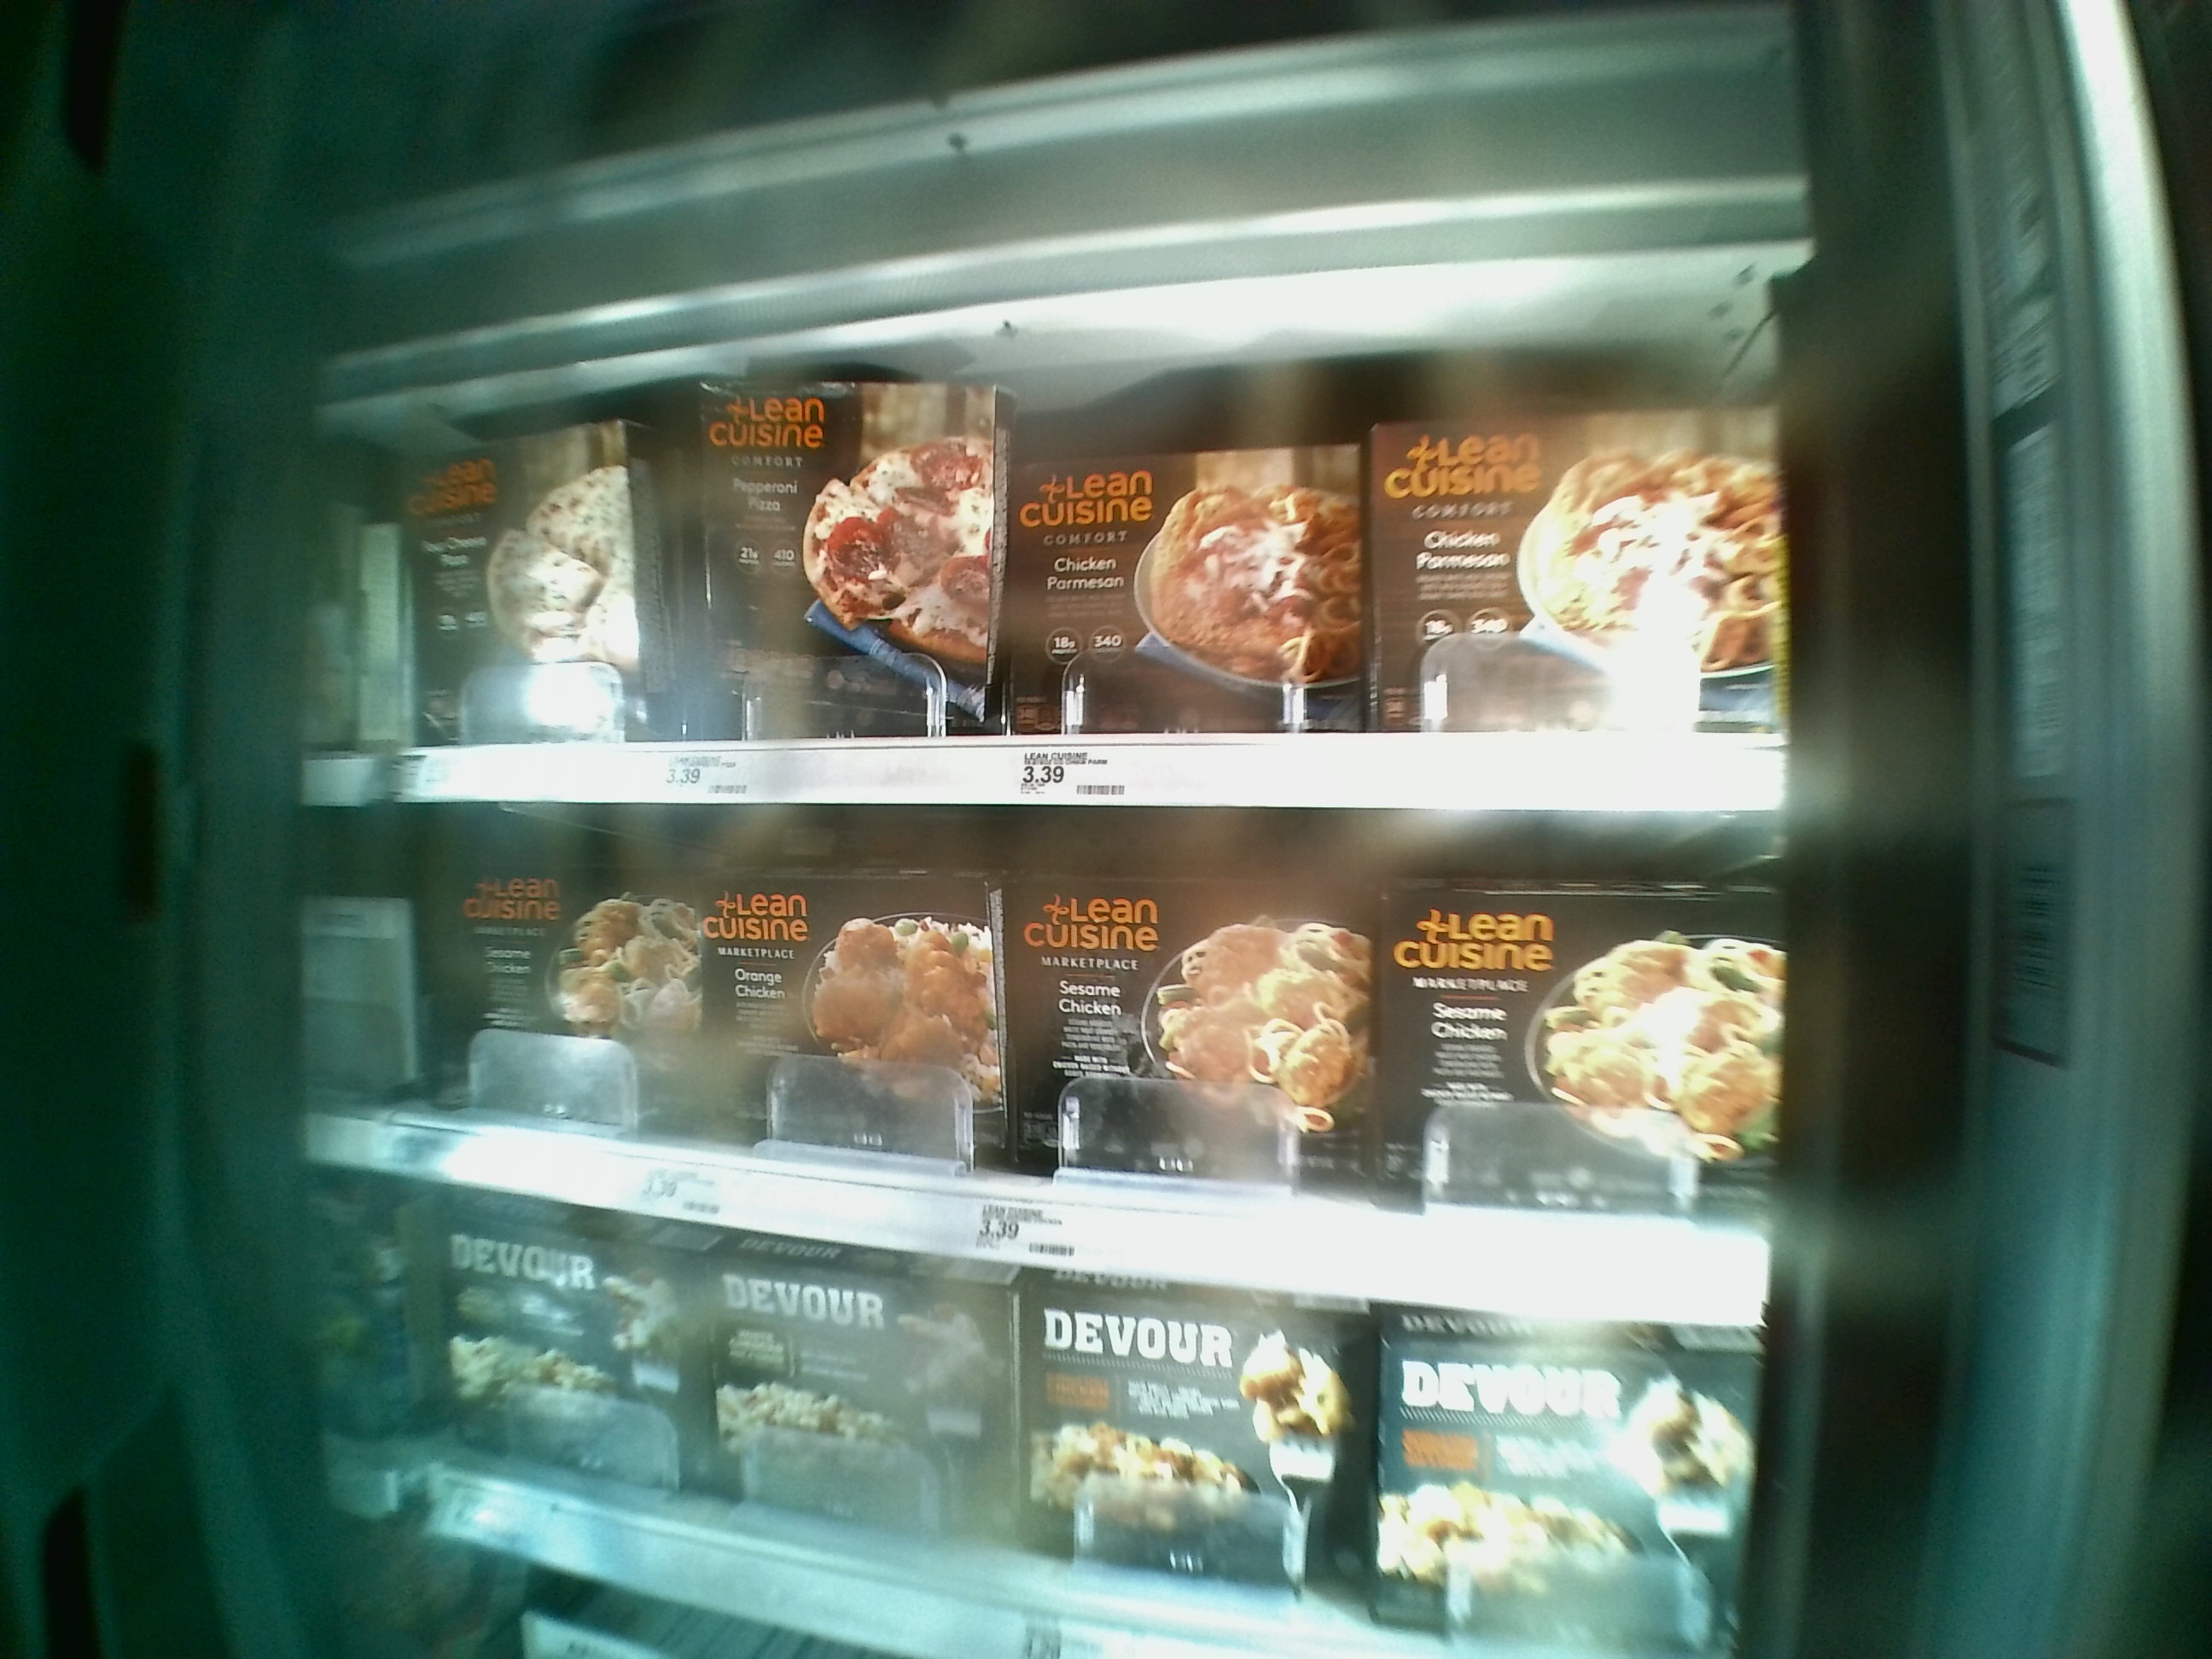shelf: (291, 807, 1777, 1333), (301, 300, 1775, 814)
